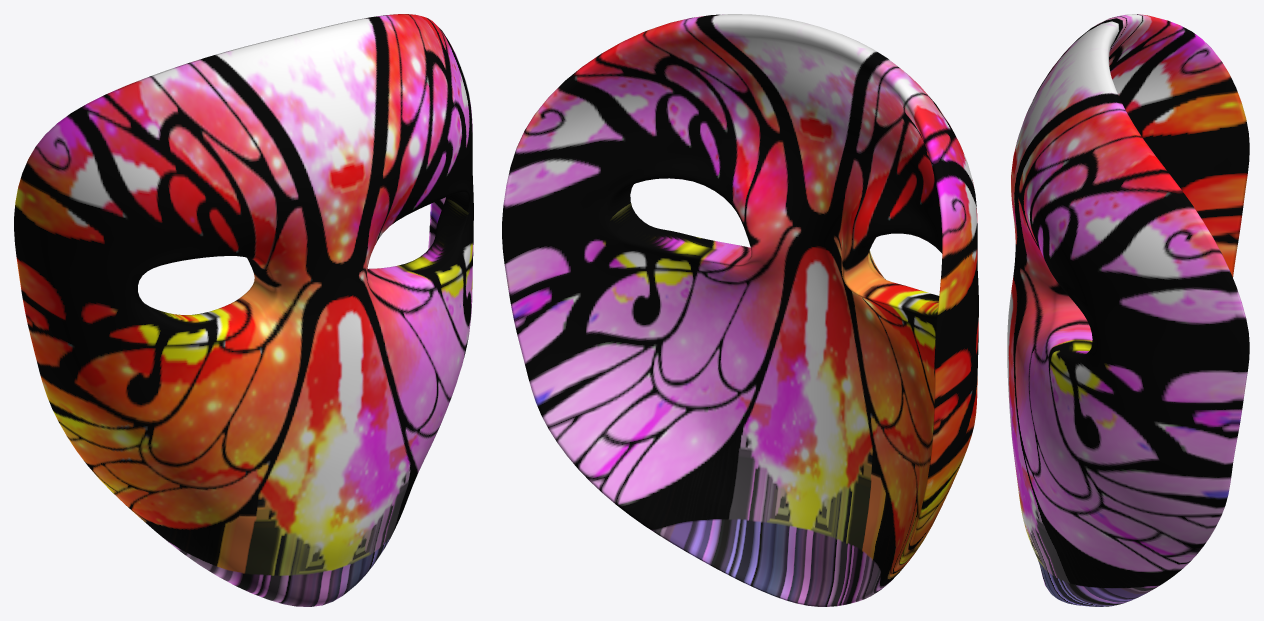
File: mask02.gltf
3 views of the same model, side by side, from view 1: azimuth 30°, elevation 25°; view 2: azimuth 150°, elevation 25°; view 3: azimuth 270°, elevation 25° (orthographic). The views are drawn at different scales.
Parts seen in each view (by area): view 1: Node; view 2: Node; view 3: Node.
Part boxes in pixels (bbox=[...]): Node: bbox=[14, 14, 473, 606]; Node: bbox=[502, 14, 978, 606]; Node: bbox=[1007, 14, 1249, 606].
Bounding box in the file's own units: 1.08 × 1.38 × 0.5527.
1 material, 1 textured.
